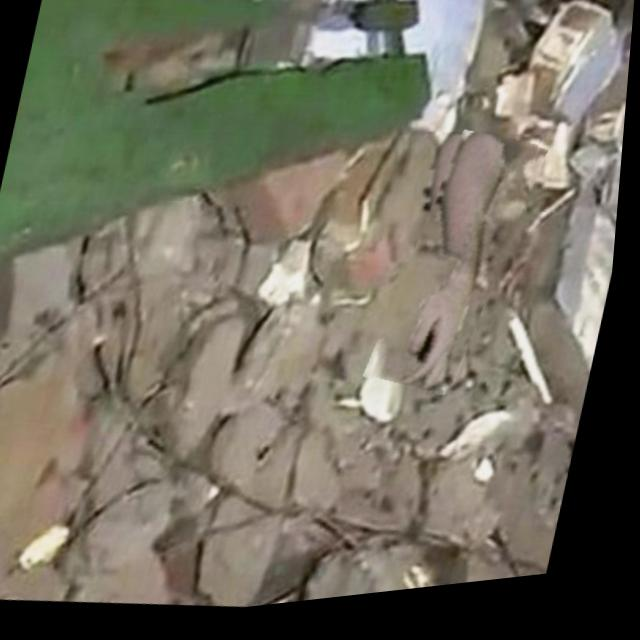Person in Rubble: (376, 132, 544, 417)
